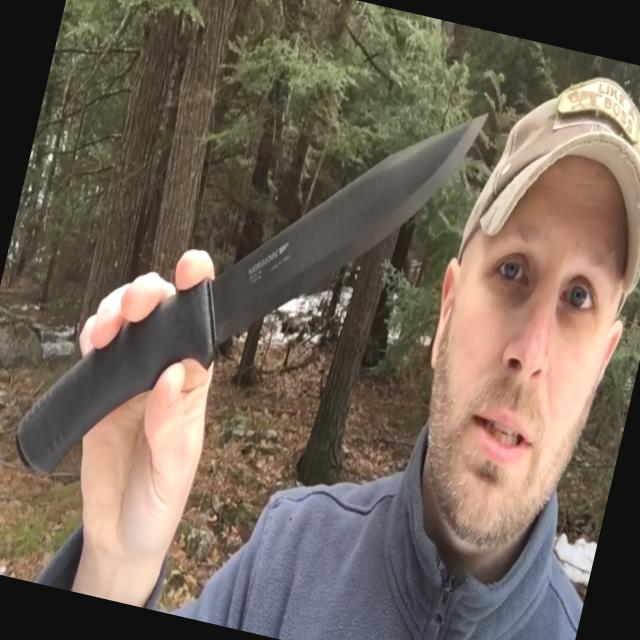knife: (116, 38, 494, 491)
